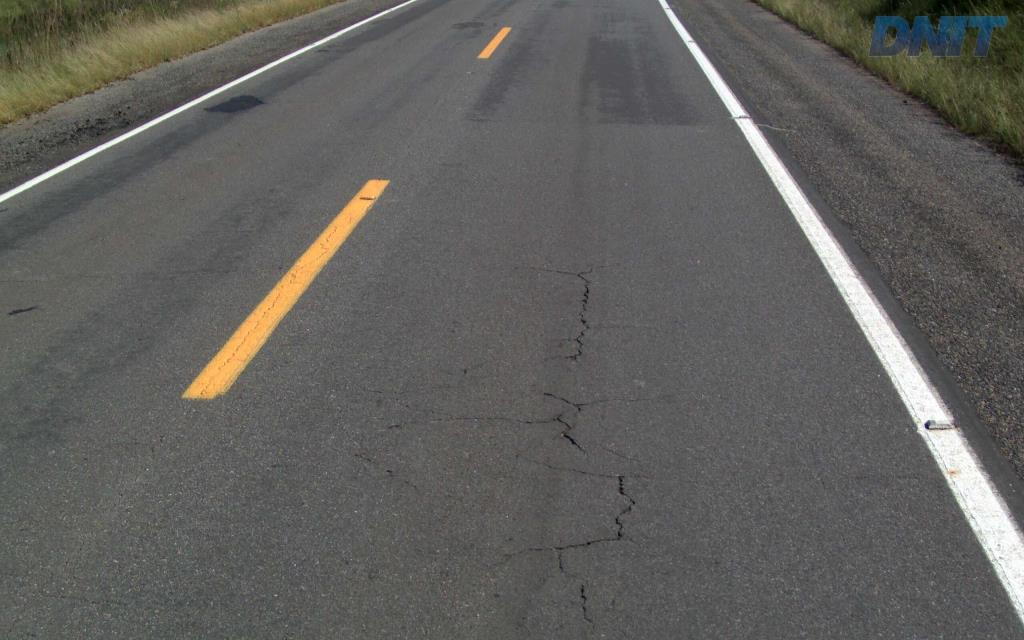crack: (553, 475, 635, 577)
